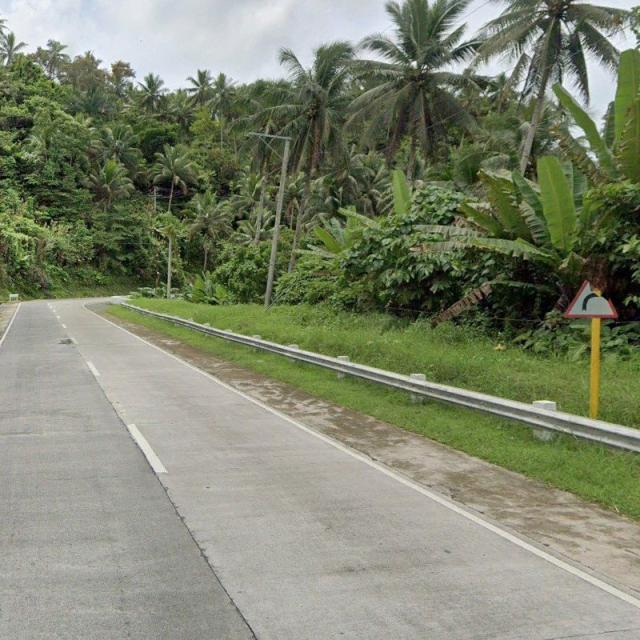warn_right_curve: (564, 266, 619, 318)
